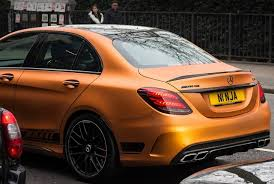number_plate: (201, 87, 257, 108)
